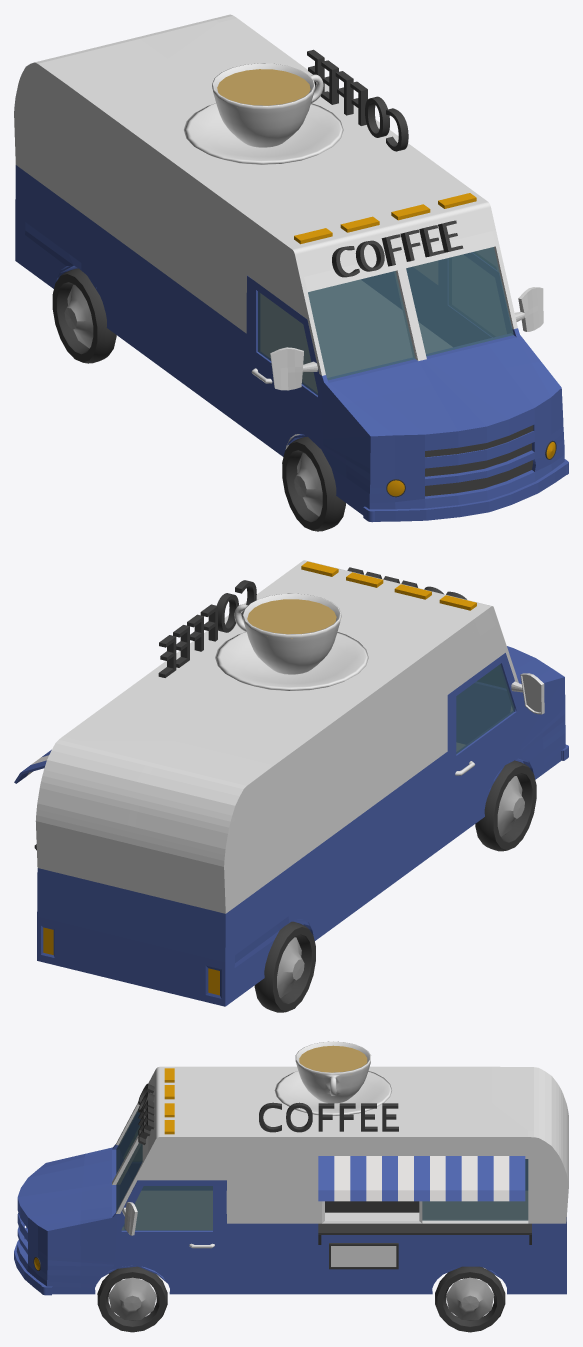
Rendered from Coffee and Tea Truck.fbx.
The picture shows the model from 3 angles, top to bottom: view 1: azimuth 30°, elevation 25°; view 2: azimuth 150°, elevation 25°; view 3: azimuth 270°, elevation 25°; orthographic projection. The views are drawn at different scales.
Parts seen in each view (by area): view 1: Tea_and_Coffee_Truck; view 2: Tea_and_Coffee_Truck; view 3: Tea_and_Coffee_Truck.
Boxes of the visible parts, x1,y1,x2,y2 form: Tea_and_Coffee_Truck: [14, 14, 568, 531]; Tea_and_Coffee_Truck: [14, 560, 568, 1012]; Tea_and_Coffee_Truck: [14, 1041, 568, 1332].
Size of the model in its own units: 2.92 by 3.14 by 6.67.
